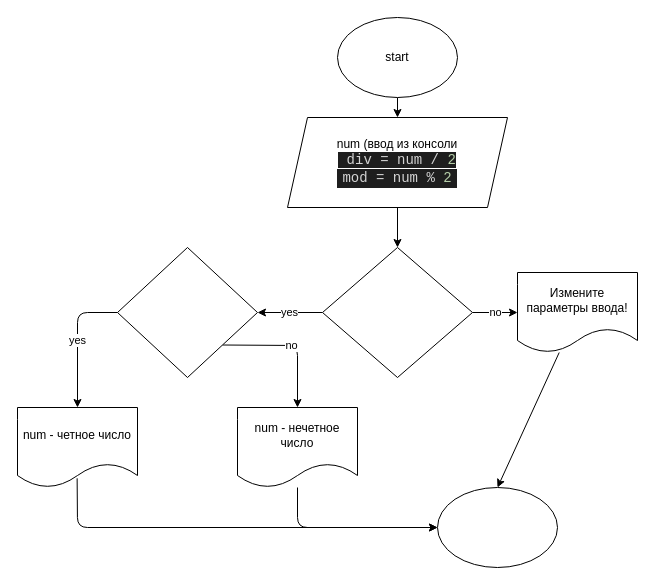
This 655x585 diagram has some shape labels left out. The shapes that lost their labels are listed below. From the top down, each one's centre as x and y in pixels, then its label:
At (187,312): "mod ==0".
At (397,312): "num !=0".
At (497,527): "end".
